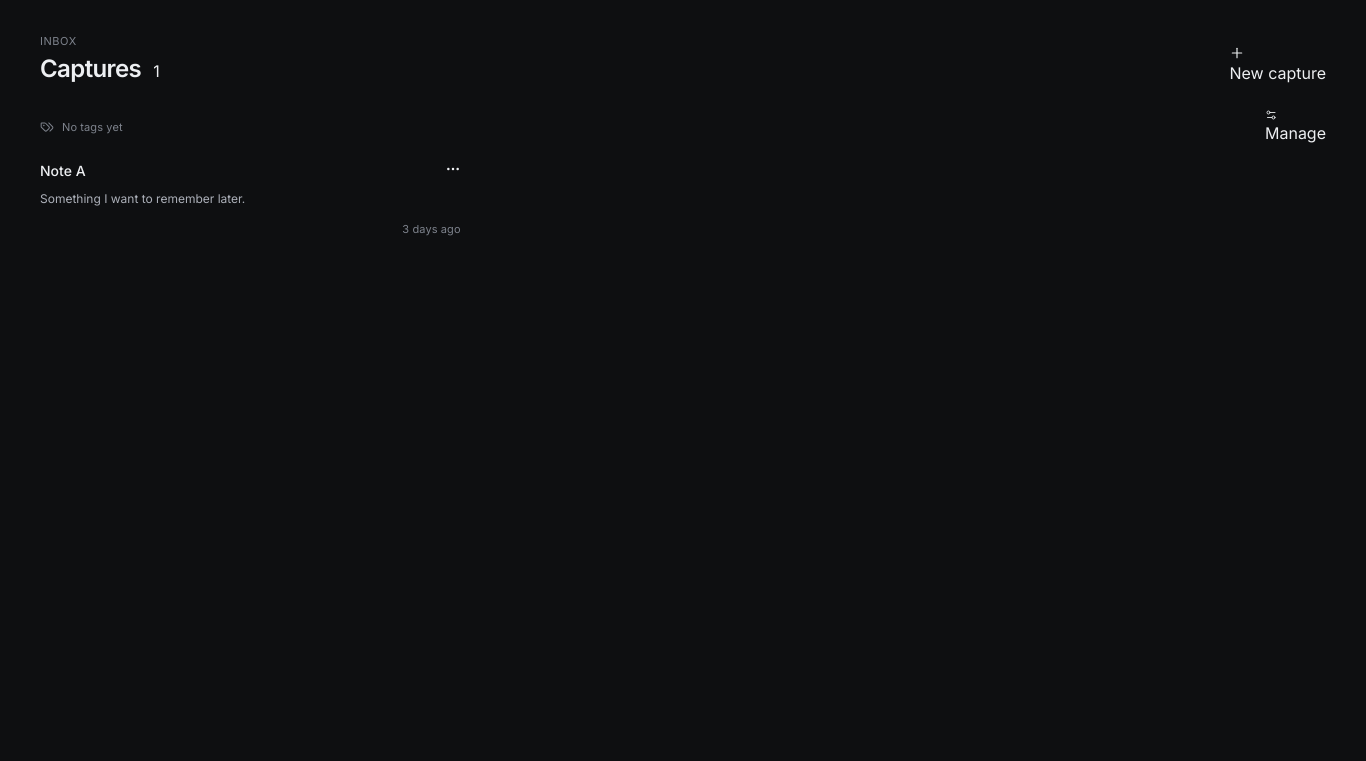
Test case: Captures page › opens the Move-to-project dialog with an empty-state prompt when no projects exist
Expected: the heading "Note A" is shown, [40,162,86,179]
Click the button named "More actions".
click(453, 169)  # box [445,161,461,177]
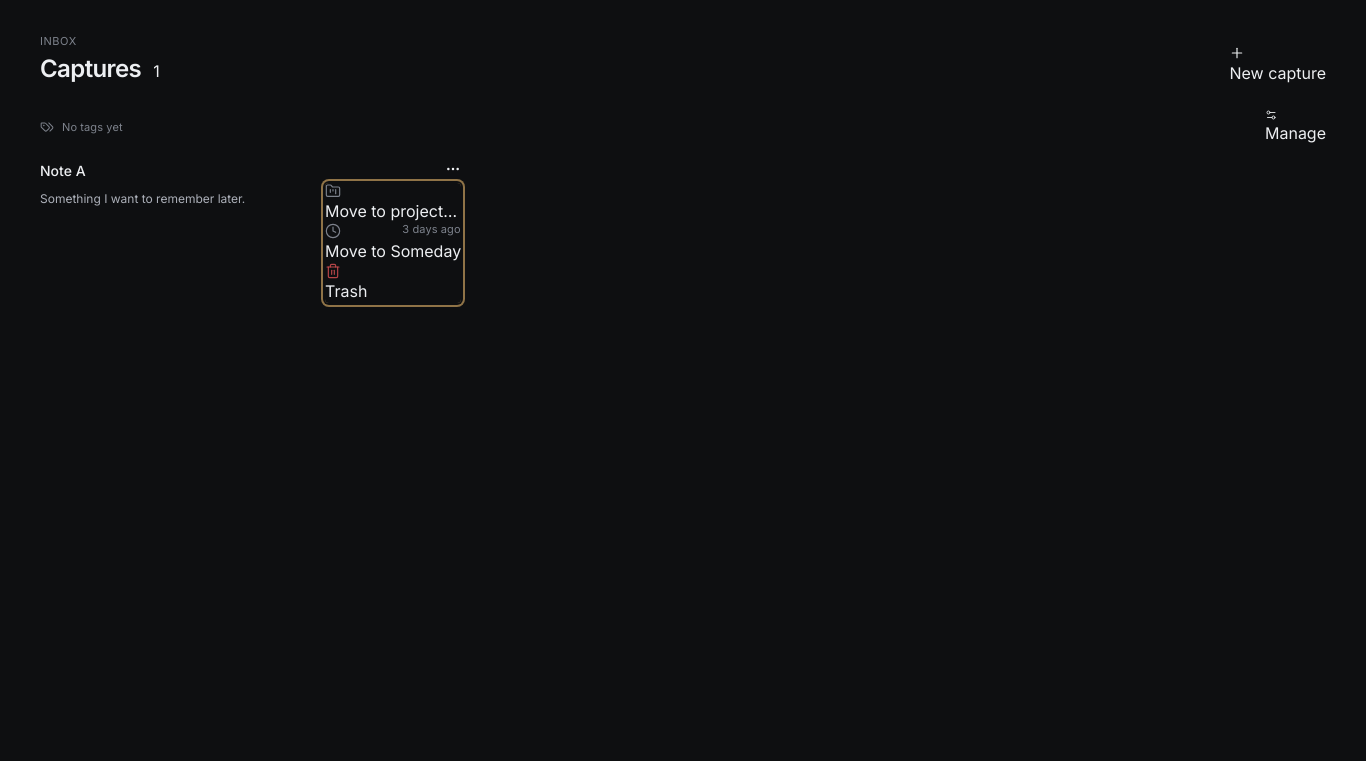
Click the menu item "Move to project…".
click(393, 203)  # box [325,183,461,223]
(page scrolled)
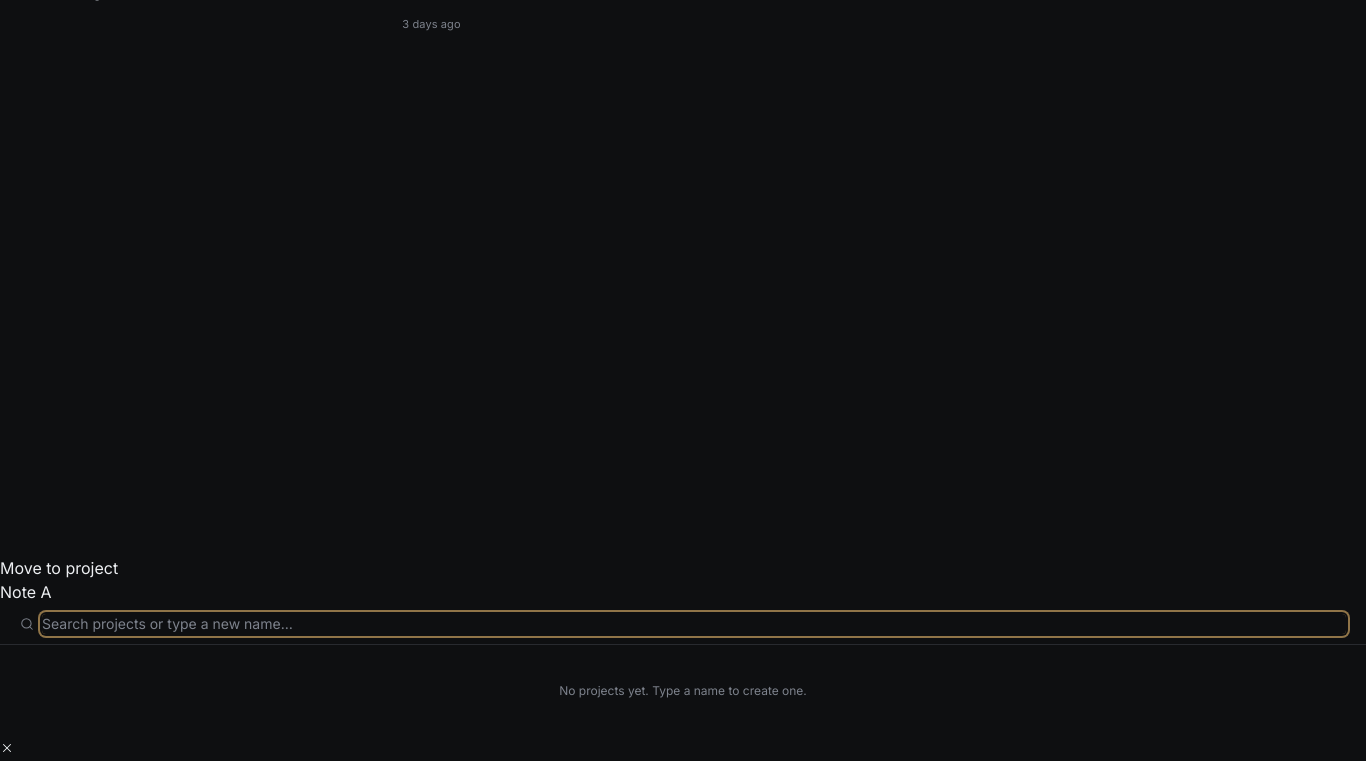
Expected: the heading "Move to project" is shown, [0,558,118,578]
Expected: the text "No projects yet. Type a name to create one." is shown, [559,683,807,698]
